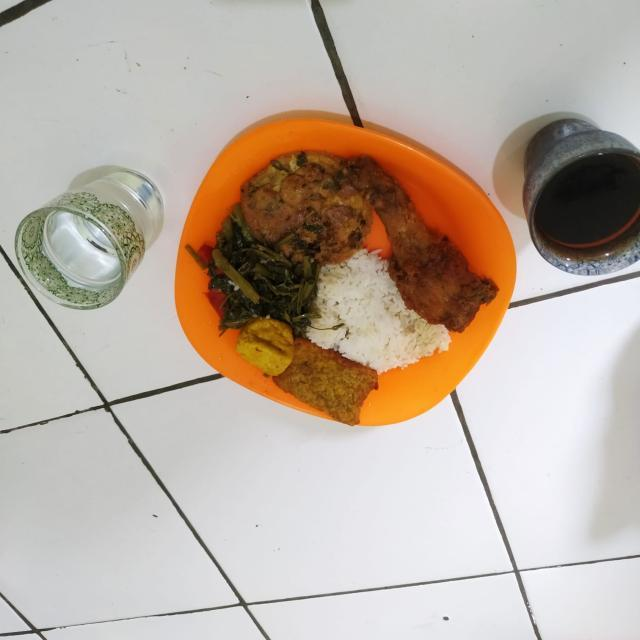ayam_goreng: (348, 166, 502, 340)
nasi_putih: (282, 273, 427, 376)
telur_ayam_dadar: (204, 140, 395, 282)
